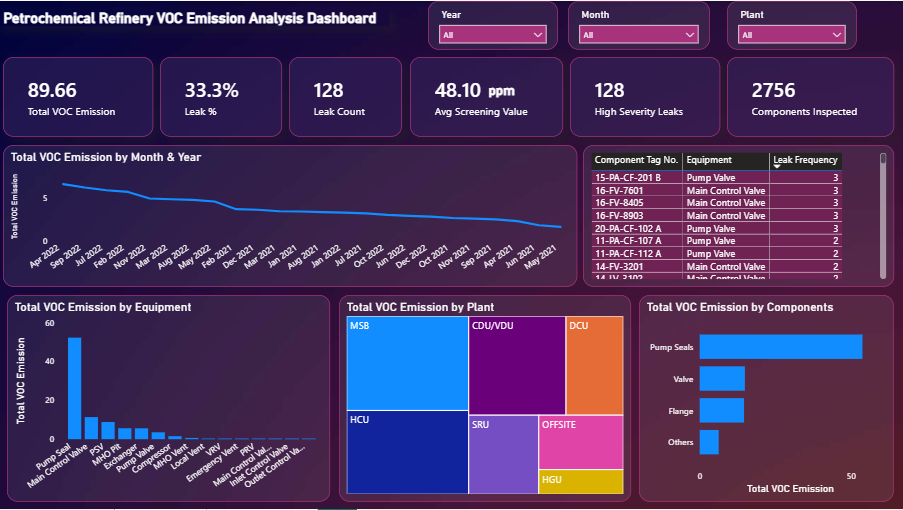

This screenshot's page, from the dashboard's own definition file:
{"tool":"powerbi","page":{"name":"Overview","canvas":[1280,720],"ordinal":0},"visuals":[{"type":"textbox","title":"Petrochemical Refinery VOC Emission Analysis Dashboard","box":[0,13.2,550.9,21.9],"z":0},{"type":"cardVisual","fields":{"Data":["Measures_List.Total VOC Emission"]},"box":[4.3,79.4,212.6,113.4],"z":1000},{"type":"cardVisual","fields":{"Data":["Measures_List.Leak Count"]},"box":[410.2,79.4,160.2,113.4],"z":2000},{"type":"cardVisual","fields":{"Data":["Measures_List.Leak %"]},"box":[227.1,79.4,172.9,113.4],"z":3000},{"type":"cardVisual","fields":{"Data":["Measures_List.Avg Screening Value"]},"box":[580.5,79.4,216.9,113.4],"z":4000},{"type":"cardVisual","fields":{"Data":["Measures_List.High Severity Leaks"]},"box":[807.6,79.4,212.6,113.4],"z":5000},{"type":"cardVisual","fields":{"Data":["Measures_List.Components Inspected"]},"box":[1030.4,79.4,236.7,113.4],"z":6000},{"type":"lineChart","fields":{"Y":["Measures_List.Total VOC Emission"],"Category":["Dates.Month & Year"]},"box":[4.3,204.1,813.5,201.3],"z":6001},{"type":"tableEx","fields":{"Values":["Plant_Data.Component Tag No.","Plant_Data.Equipment","Measures_List.Leak Frequency"]},"box":[826.3,204.1,440.8,201.3],"z":6002},{"type":"clusteredColumnChart","fields":{"Category":["Plant_Data.Equipment"],"Y":["Measures_List.Total VOC Emission"]},"box":[9.9,416.7,457.8,293.4],"z":6003},{"type":"treemap","fields":{"Group":["Plant_Data.Plant"],"Values":["Measures_List.Total VOC Emission"]},"box":[479.8,416.7,413.9,293.4],"z":6004},{"type":"barChart","fields":{"Category":["Plant_Data.Components"],"Y":["Measures_List.Total VOC Emission"]},"box":[905.7,416.7,361.4,293.4],"z":6005},{"type":"slicer","fields":{"Values":["Dates.Month Name"]},"box":[805,0,201.3,69.4],"z":6006},{"type":"slicer","fields":{"Values":["Dates.Year"]},"box":[606.6,0,184.3,69.4],"z":6007},{"type":"slicer","fields":{"Values":["Plant_Data.Plant"]},"box":[1030.4,0,184.3,69.4],"z":6008},{"type":"textbox","title":"ppm","box":[686.8,115.4,89.1,30.7],"z":6009}]}

Visuals, with their boxes in screenshot pixels (x1, y1, x2, y2), scaled from the page's 1280x720 canvas onto the 903x510 screenshot:
"Petrochemical Refinery VOC Emission Analysis Dashboard" textbox: <bbox>0, 9, 389, 25</bbox>
cardVisual - Measures_List.Total VOC Emission: <bbox>3, 56, 153, 137</bbox>
cardVisual - Measures_List.Leak Count: <bbox>289, 56, 402, 137</bbox>
cardVisual - Measures_List.Leak %: <bbox>160, 56, 282, 137</bbox>
cardVisual - Measures_List.Avg Screening Value: <bbox>410, 56, 563, 137</bbox>
cardVisual - Measures_List.High Severity Leaks: <bbox>570, 56, 720, 137</bbox>
cardVisual - Measures_List.Components Inspected: <bbox>727, 56, 894, 137</bbox>
lineChart - Measures_List.Total VOC Emission x Dates.Month & Year: <bbox>3, 145, 577, 287</bbox>
tableEx - Plant_Data.Component Tag No. x Plant_Data.Equipment: <bbox>583, 145, 894, 287</bbox>
clusteredColumnChart - Plant_Data.Equipment x Measures_List.Total VOC Emission: <bbox>7, 295, 330, 503</bbox>
treemap - Plant_Data.Plant x Measures_List.Total VOC Emission: <bbox>338, 295, 630, 503</bbox>
barChart - Plant_Data.Components x Measures_List.Total VOC Emission: <bbox>639, 295, 894, 503</bbox>
slicer - Dates.Month Name: <bbox>568, 0, 710, 49</bbox>
slicer - Dates.Year: <bbox>428, 0, 558, 49</bbox>
slicer - Plant_Data.Plant: <bbox>727, 0, 857, 49</bbox>
"ppm" textbox: <bbox>485, 82, 547, 103</bbox>
